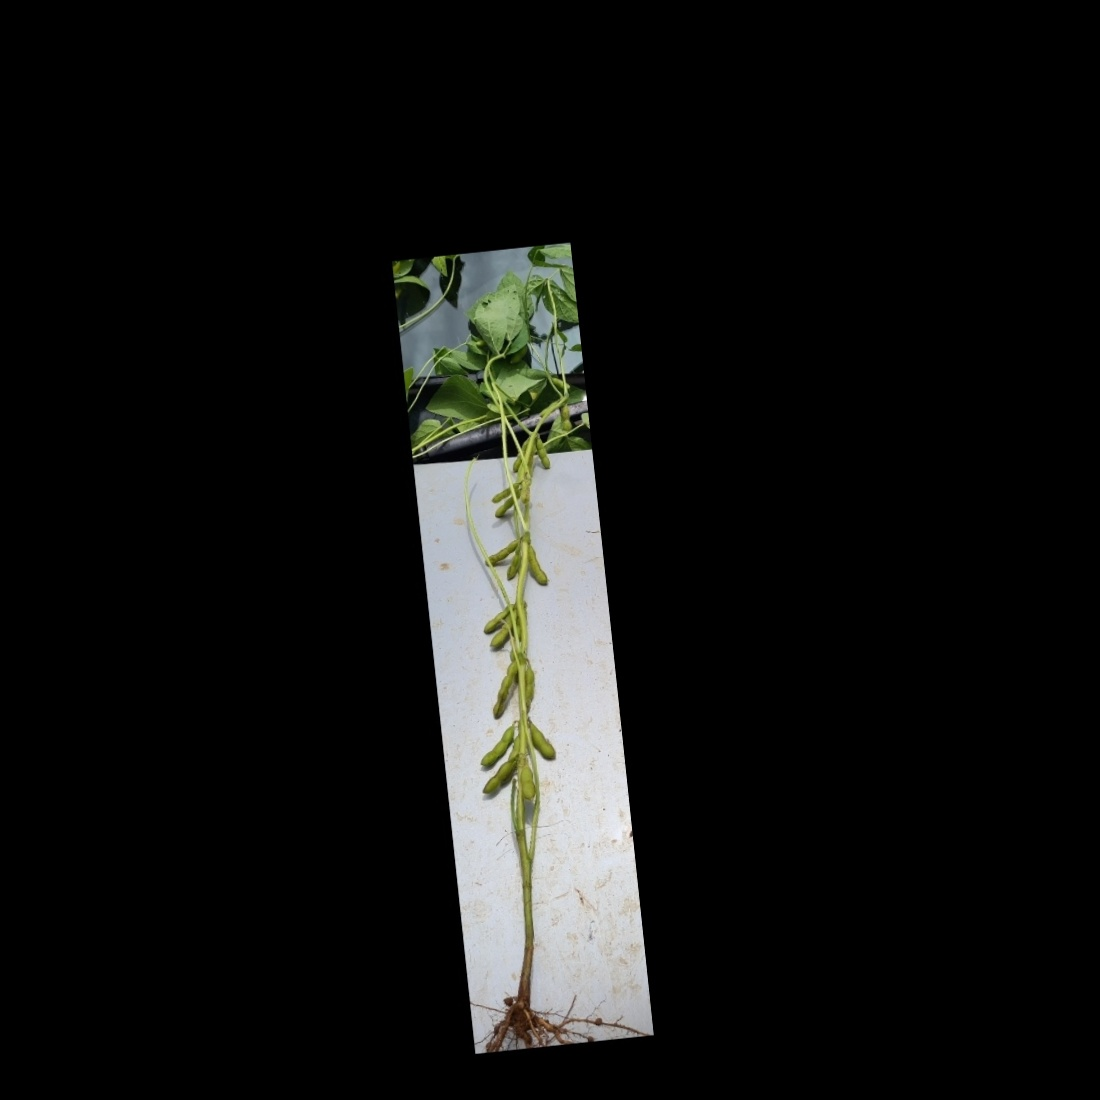pod: (484, 659, 522, 719), (472, 721, 518, 769), (525, 716, 559, 764), (476, 758, 517, 796), (525, 542, 548, 587), (490, 490, 524, 519), (531, 432, 553, 474), (518, 761, 537, 805), (501, 548, 524, 583), (488, 477, 520, 503), (554, 401, 573, 436), (506, 343, 530, 365)
soy: (410, 288, 631, 1029)
